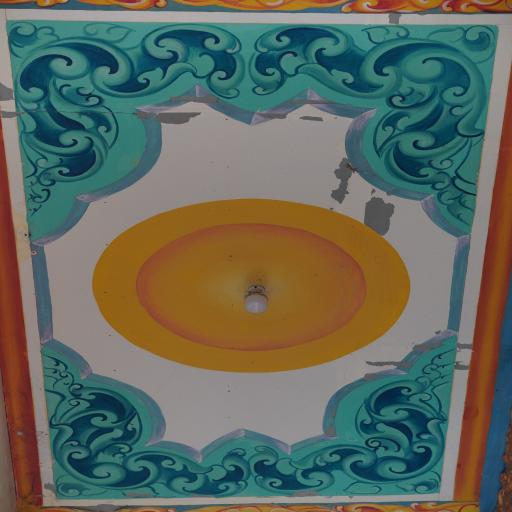la: (246, 22, 498, 234), (5, 22, 248, 223), (35, 340, 254, 502), (252, 339, 460, 500)
